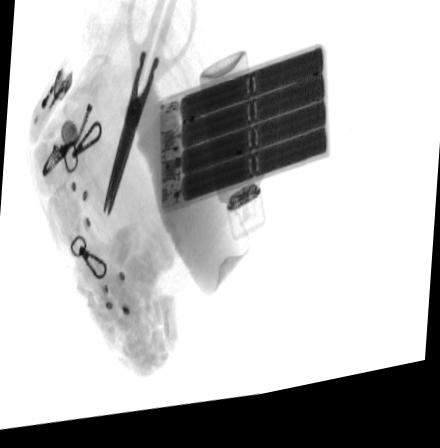Lighter: (28, 61, 74, 146)
Powerbank: (157, 54, 332, 218)
Scissors: (103, 0, 197, 220)
Sprayer: (201, 59, 267, 248)
